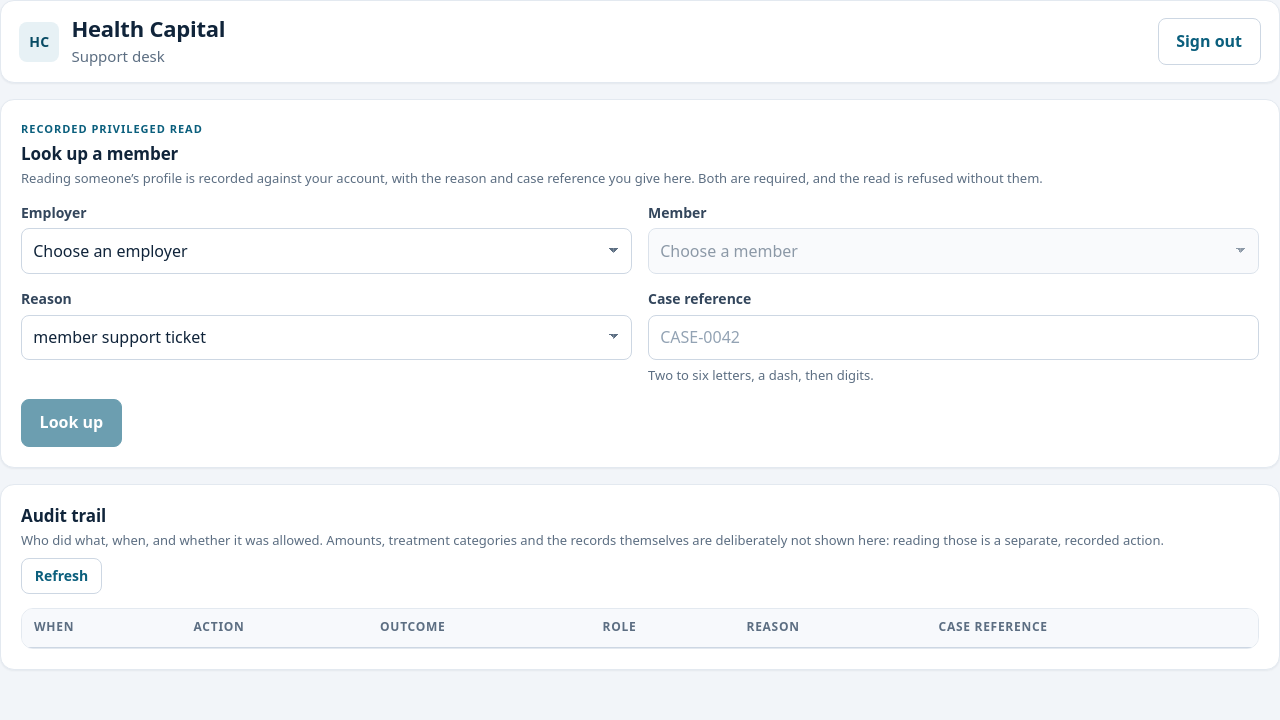
Test: the support view requires a reason and a case reference › explains a refusal in terms of what was missing
Select "Northstar Industries" in the dropdown labelled "Employer" at x=326, y=251, box [21,228,632,274]
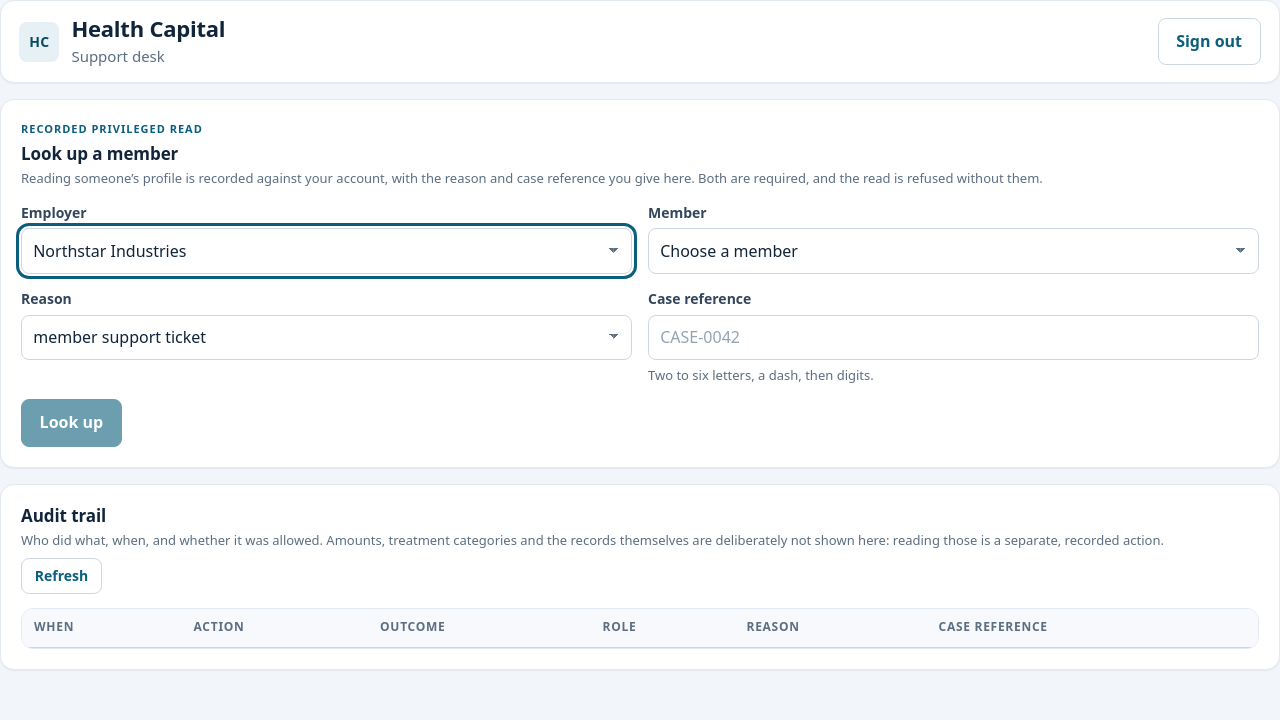
Result: the dropdown labelled "Member" is enabled
Select "Sarah Thompson" in the dropdown labelled "Member" at x=954, y=251, box [648,228,1259,274]
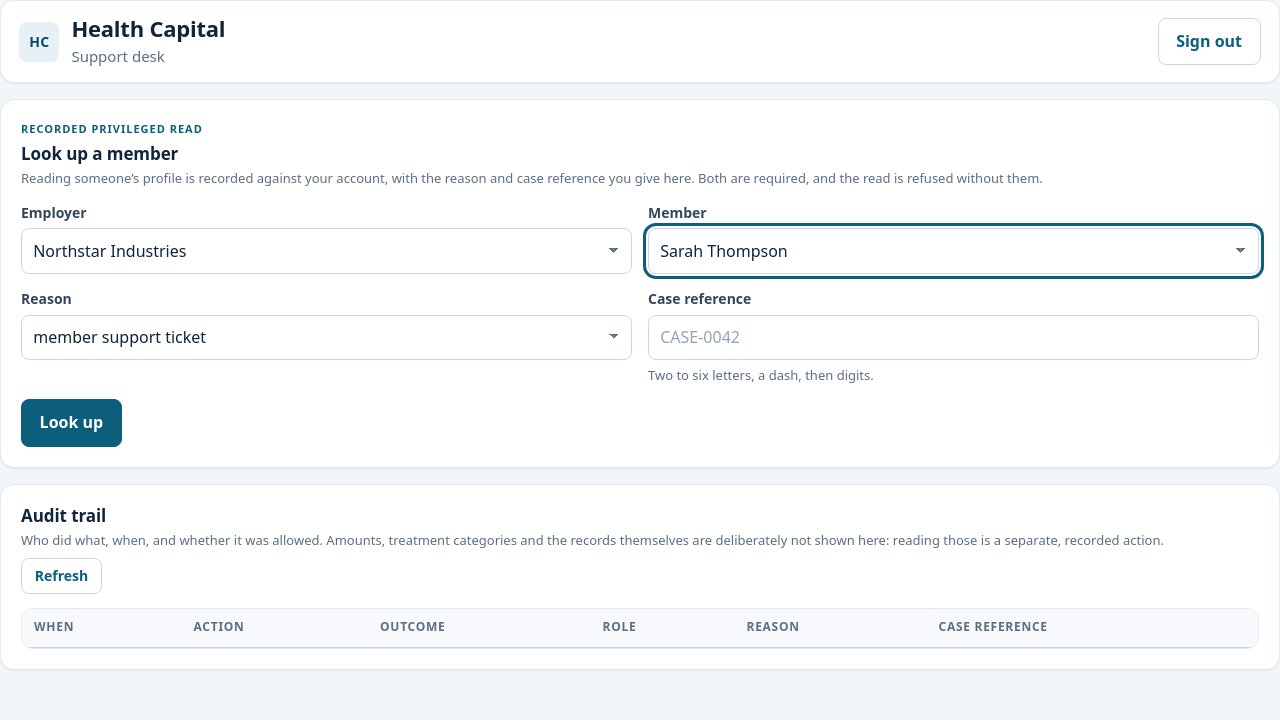
Type "CASE-9999" into the field labelled "Case reference" at x=954, y=338, box [648,314,1259,360]
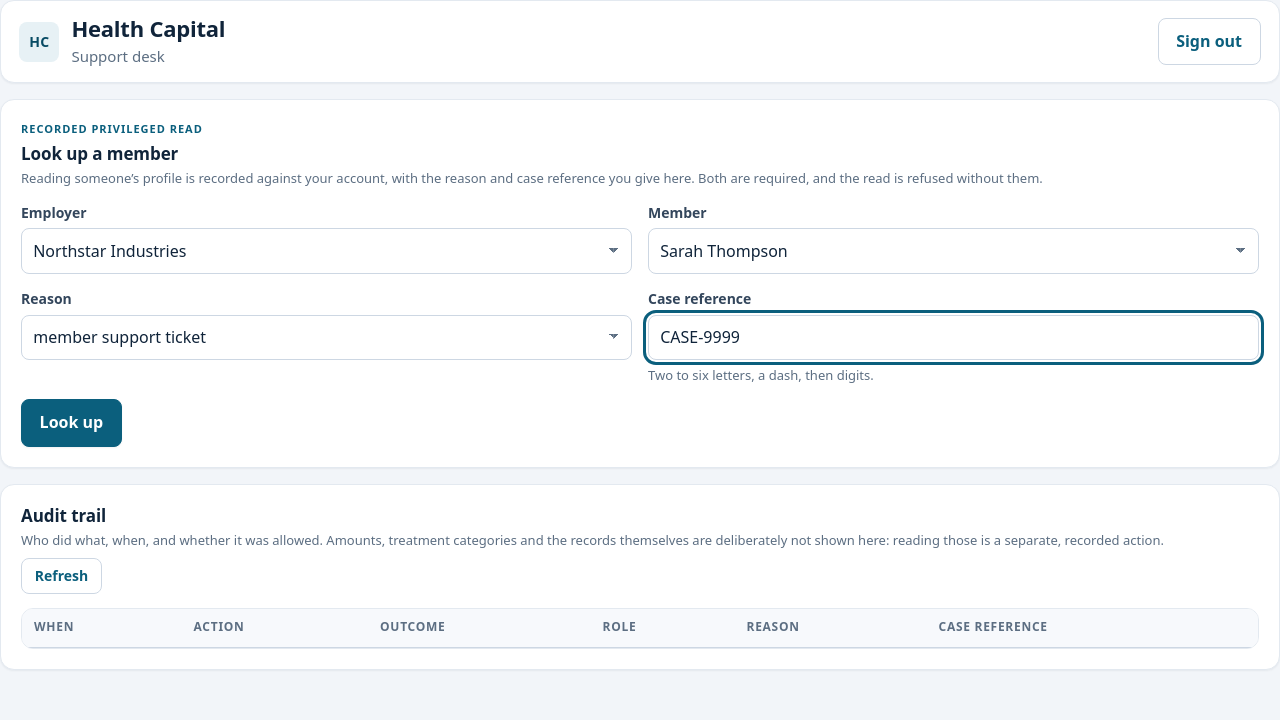
Click the button "Look up" at x=71, y=423, box [21,399,122,447]
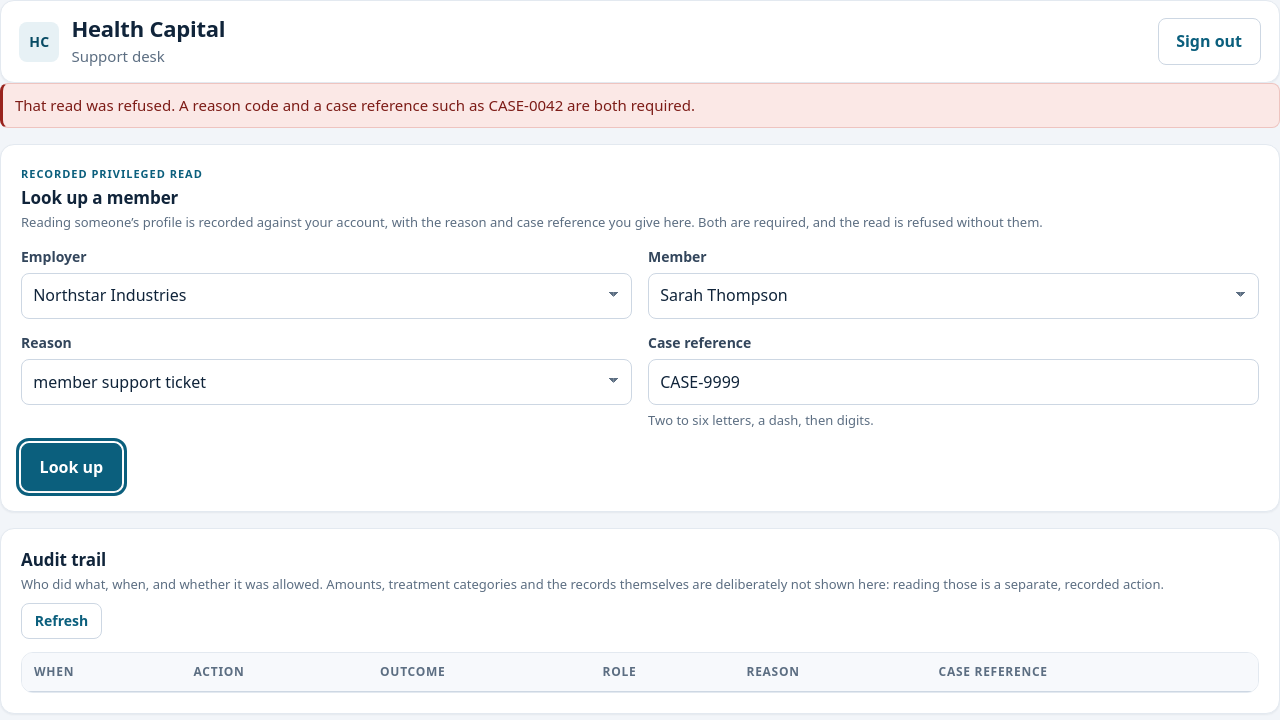
Result: the message shows "reason code and a case reference" at [15,95,695,115]
